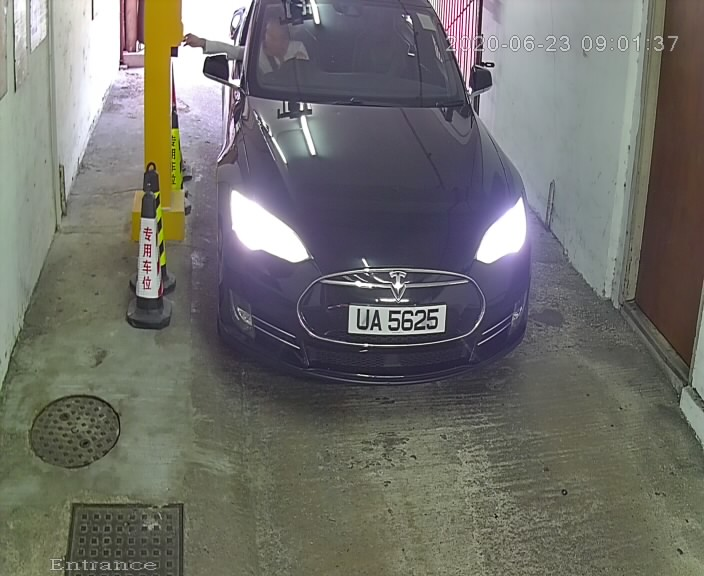privatecar: (190, 1, 567, 402)
